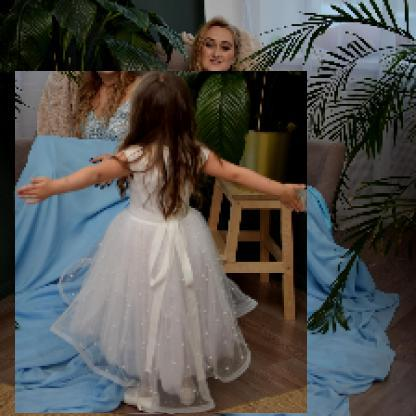child: (16, 72, 309, 415)
